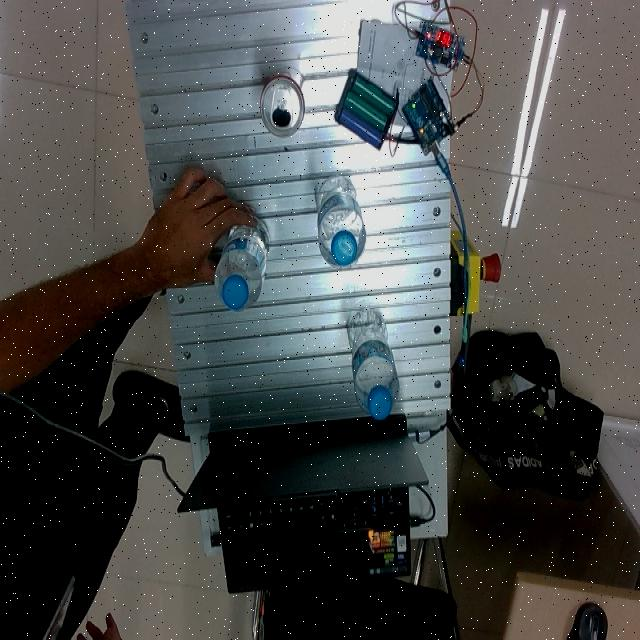coca: (260, 72, 306, 140)
lavie: (348, 307, 399, 421), (215, 219, 271, 312), (317, 176, 366, 269)
